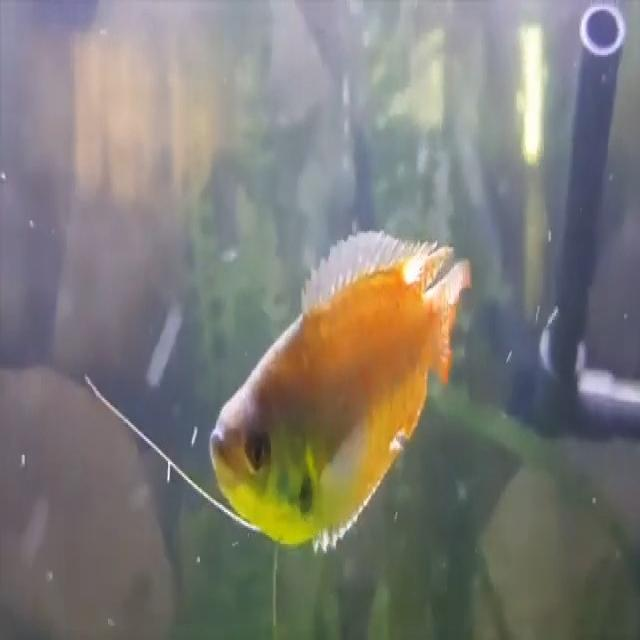fish: (210, 218, 471, 556)
